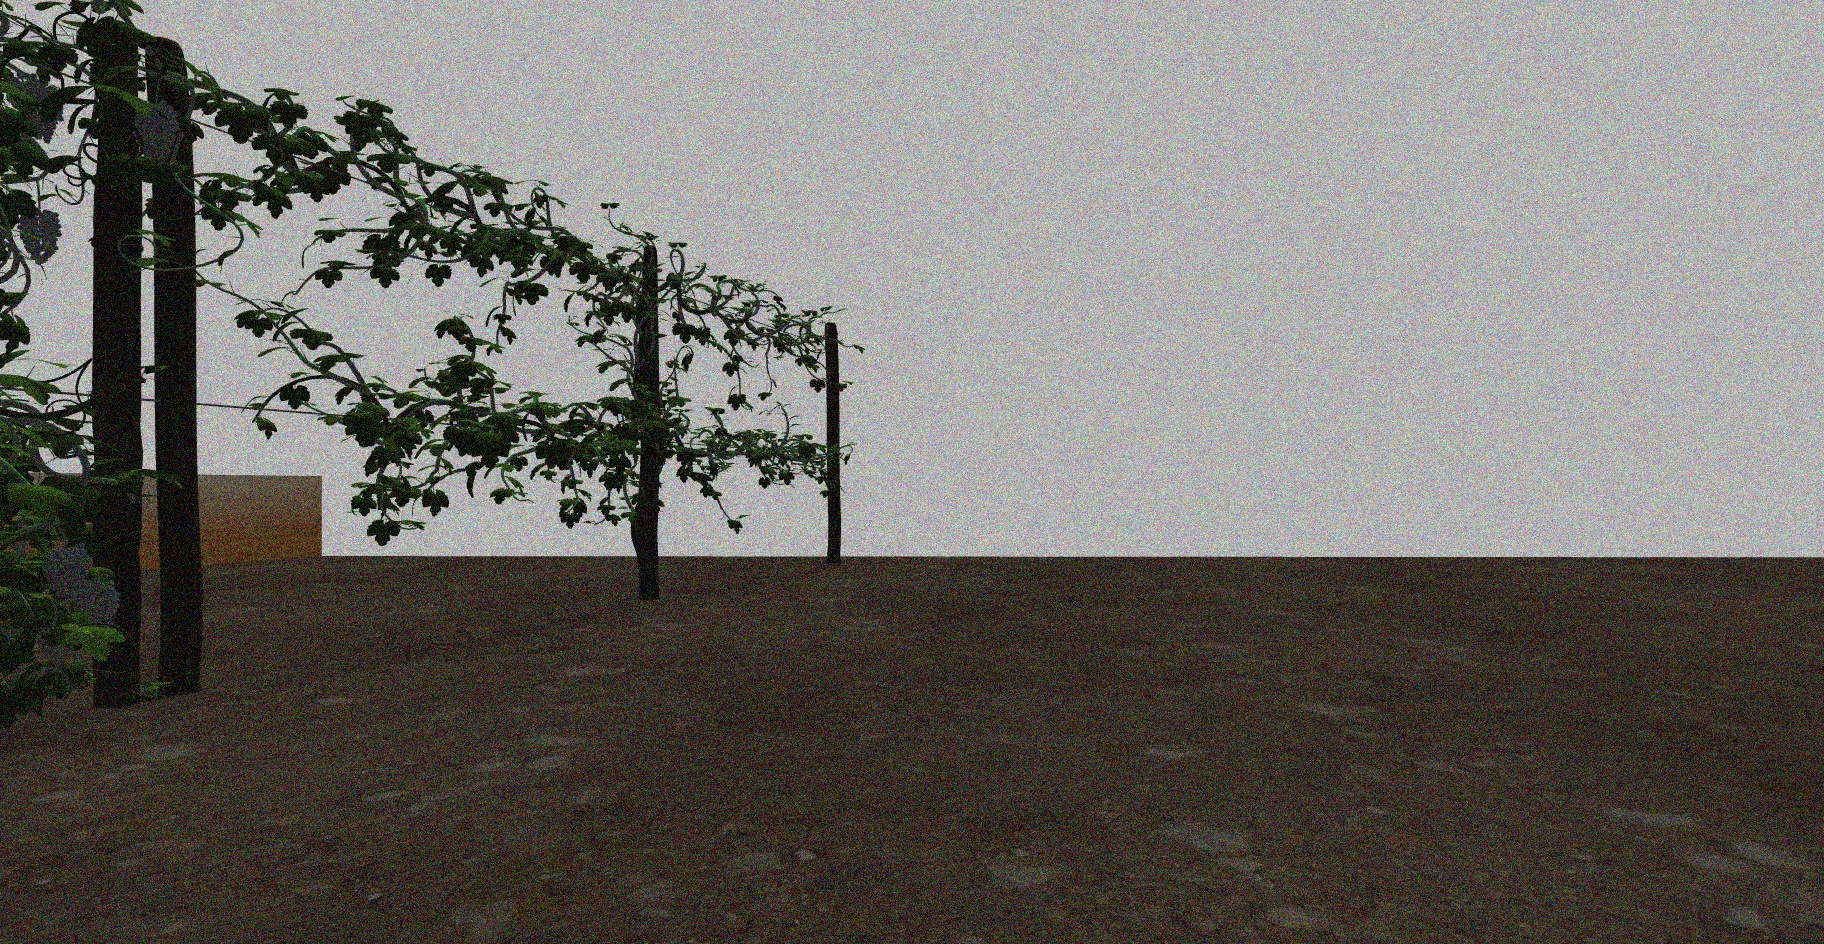grape: (132, 102, 181, 163), (45, 541, 90, 602), (17, 208, 61, 264), (79, 580, 122, 627)
